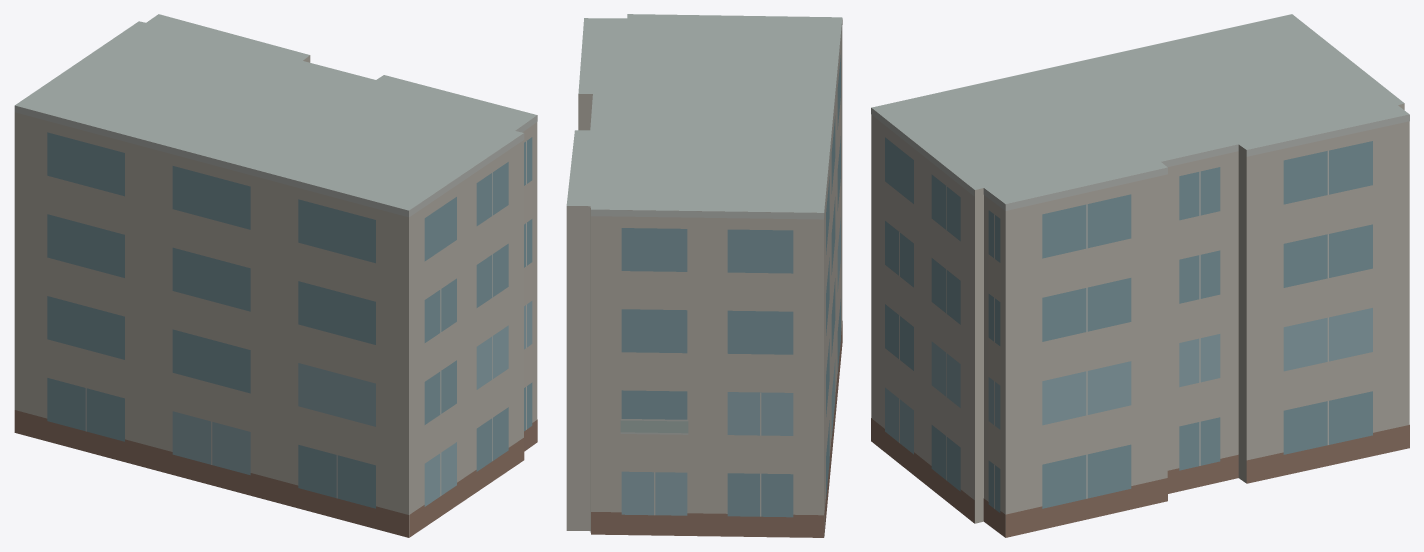
The model's file is survey-upis-32947922.glb.
3 views of the same model, side by side, from view 1: azimuth 30°, elevation 25°; view 2: azimuth 150°, elevation 25°; view 3: azimuth 270°, elevation 25° (orthographic). The views are drawn at different scales.
Parts seen in each view (by area): view 1: survey-upis-32947922.tmp; view 2: survey-upis-32947922.tmp; view 3: survey-upis-32947922.tmp.
Boxes of the visible parts, box(x1,y1,x2,y2) form: survey-upis-32947922.tmp: box(14, 14, 537, 537); survey-upis-32947922.tmp: box(566, 14, 842, 537); survey-upis-32947922.tmp: box(871, 14, 1409, 537).
Size of the model in its own units: 14.56 by 11.9 by 17.41.
